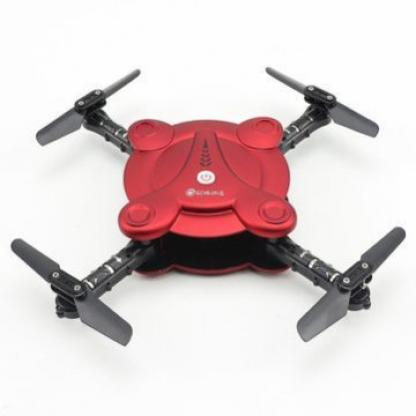drone: (17, 71, 415, 346)
